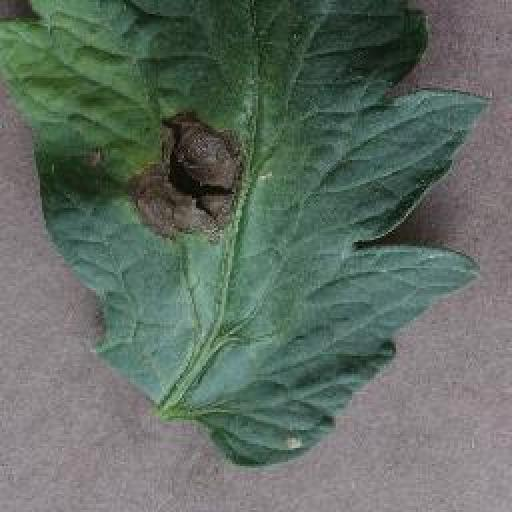disease_tomato: (4, 1, 482, 467)
